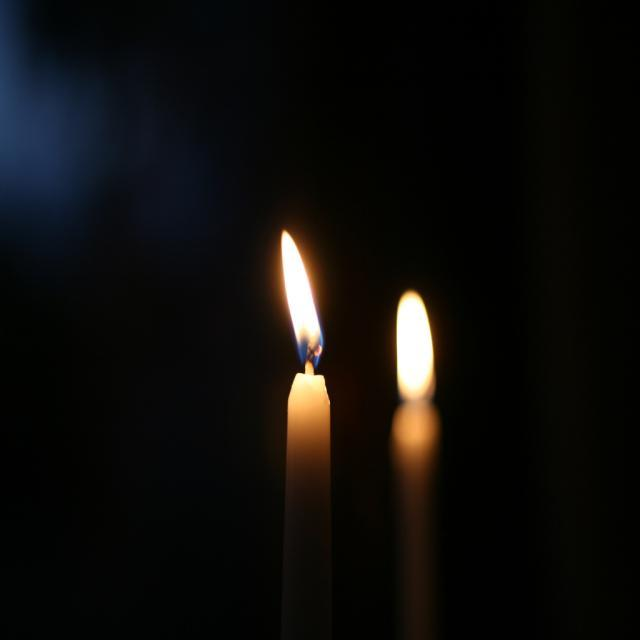Fire: (398, 311, 429, 389), (292, 281, 312, 330)
